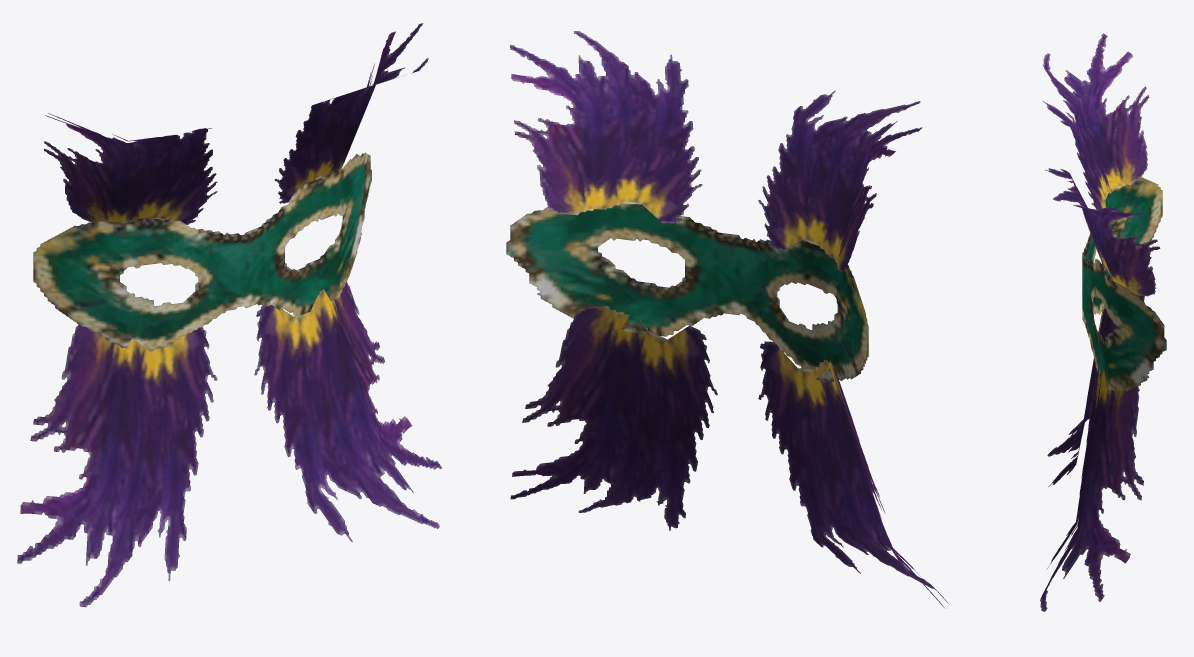
The model's file is furni_0200769.FBX.
The picture shows the model from 3 angles, left to right: view 1: azimuth 30°, elevation 25°; view 2: azimuth 150°, elevation 25°; view 3: azimuth 270°, elevation 25°; orthographic projection. The views are drawn at different scales.
Visible parts, largest first — view 1: furni_0200769; view 2: furni_0200769; view 3: furni_0200769.
Boxes of the visible parts, bbox=[...] form: furni_0200769: bbox=[17, 23, 441, 607]; furni_0200769: bbox=[506, 31, 948, 608]; furni_0200769: bbox=[1040, 33, 1166, 611].
Size of the model in its own units: 65.48 by 74.02 by 24.06.
1 material, 1 textured.
